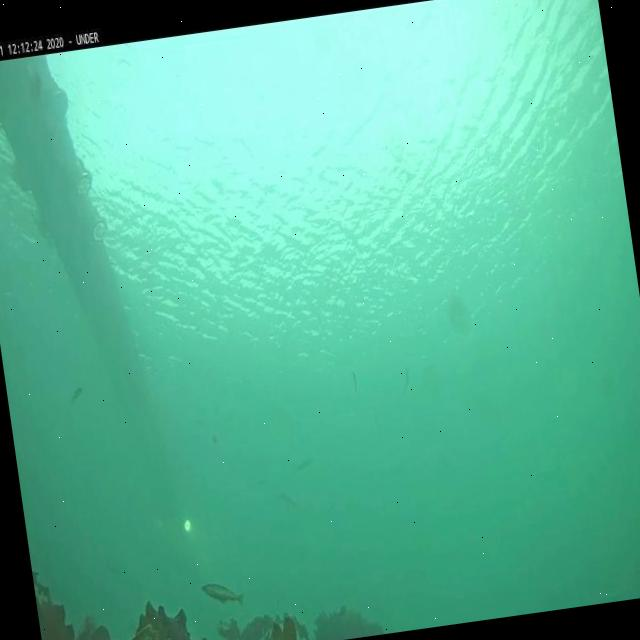fish: (201, 575, 246, 611), (278, 488, 302, 516), (399, 368, 413, 394), (298, 455, 316, 475), (349, 368, 360, 398), (70, 385, 86, 405)
